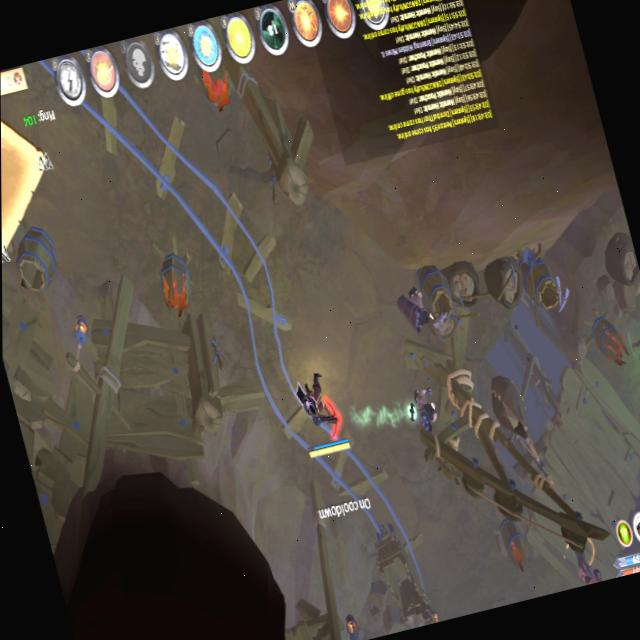ore: (555, 518, 614, 588), (389, 272, 443, 342), (400, 376, 444, 434)
red: (285, 361, 353, 464)
